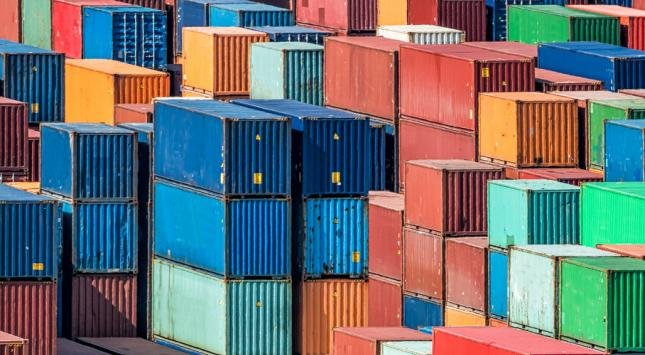container_door: (112, 11, 169, 68)
container_no_door: (220, 112, 294, 200), (302, 116, 371, 197), (225, 198, 290, 282), (306, 198, 368, 277), (305, 276, 367, 355), (228, 282, 291, 355), (1, 198, 58, 278), (73, 203, 137, 274), (71, 131, 135, 202), (2, 282, 59, 355), (10, 52, 67, 124), (71, 274, 136, 335), (521, 102, 580, 169), (605, 270, 644, 350), (445, 171, 495, 233), (216, 32, 263, 96), (526, 191, 580, 245), (287, 50, 323, 105), (114, 75, 166, 100)
